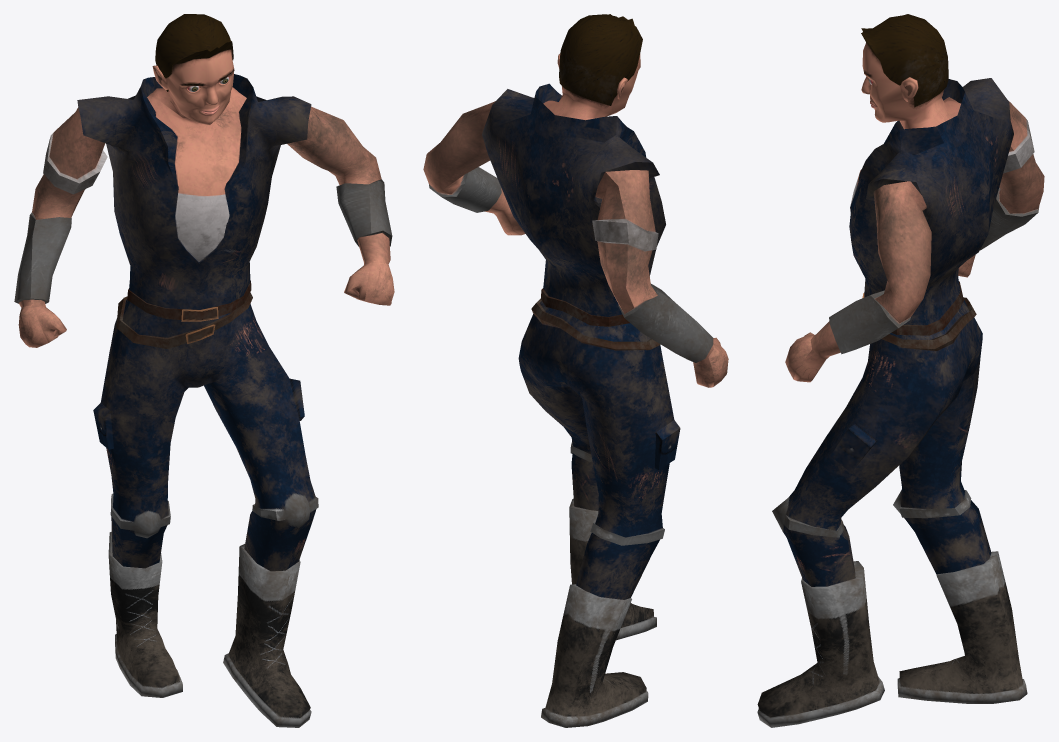
File: Anim_ataque_f1_jugador.0012.obj
3 renders of one model, left to right at view 1: azimuth 30°, elevation 25°; view 2: azimuth 150°, elevation 25°; view 3: azimuth 270°, elevation 25°, orthographic. The views are drawn at different scales.
Visible parts, largest first — view 1: polySurface1; view 2: polySurface1; view 3: polySurface1.
Boxes of the visible parts, left/top/right/bottom form: polySurface1: left=14, top=14, right=394, bottom=727; polySurface1: left=423, top=14, right=728, bottom=727; polySurface1: left=757, top=14, right=1044, bottom=727.
Bounding box in the file's own units: 4.84 × 9.41 × 3.56.
